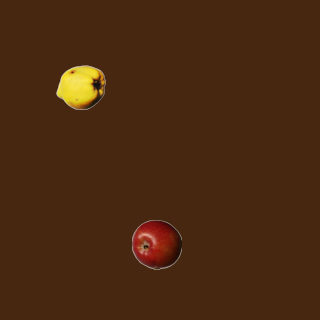Apple Braeburn: (131, 219, 181, 269)
Quince: (55, 62, 105, 112)
